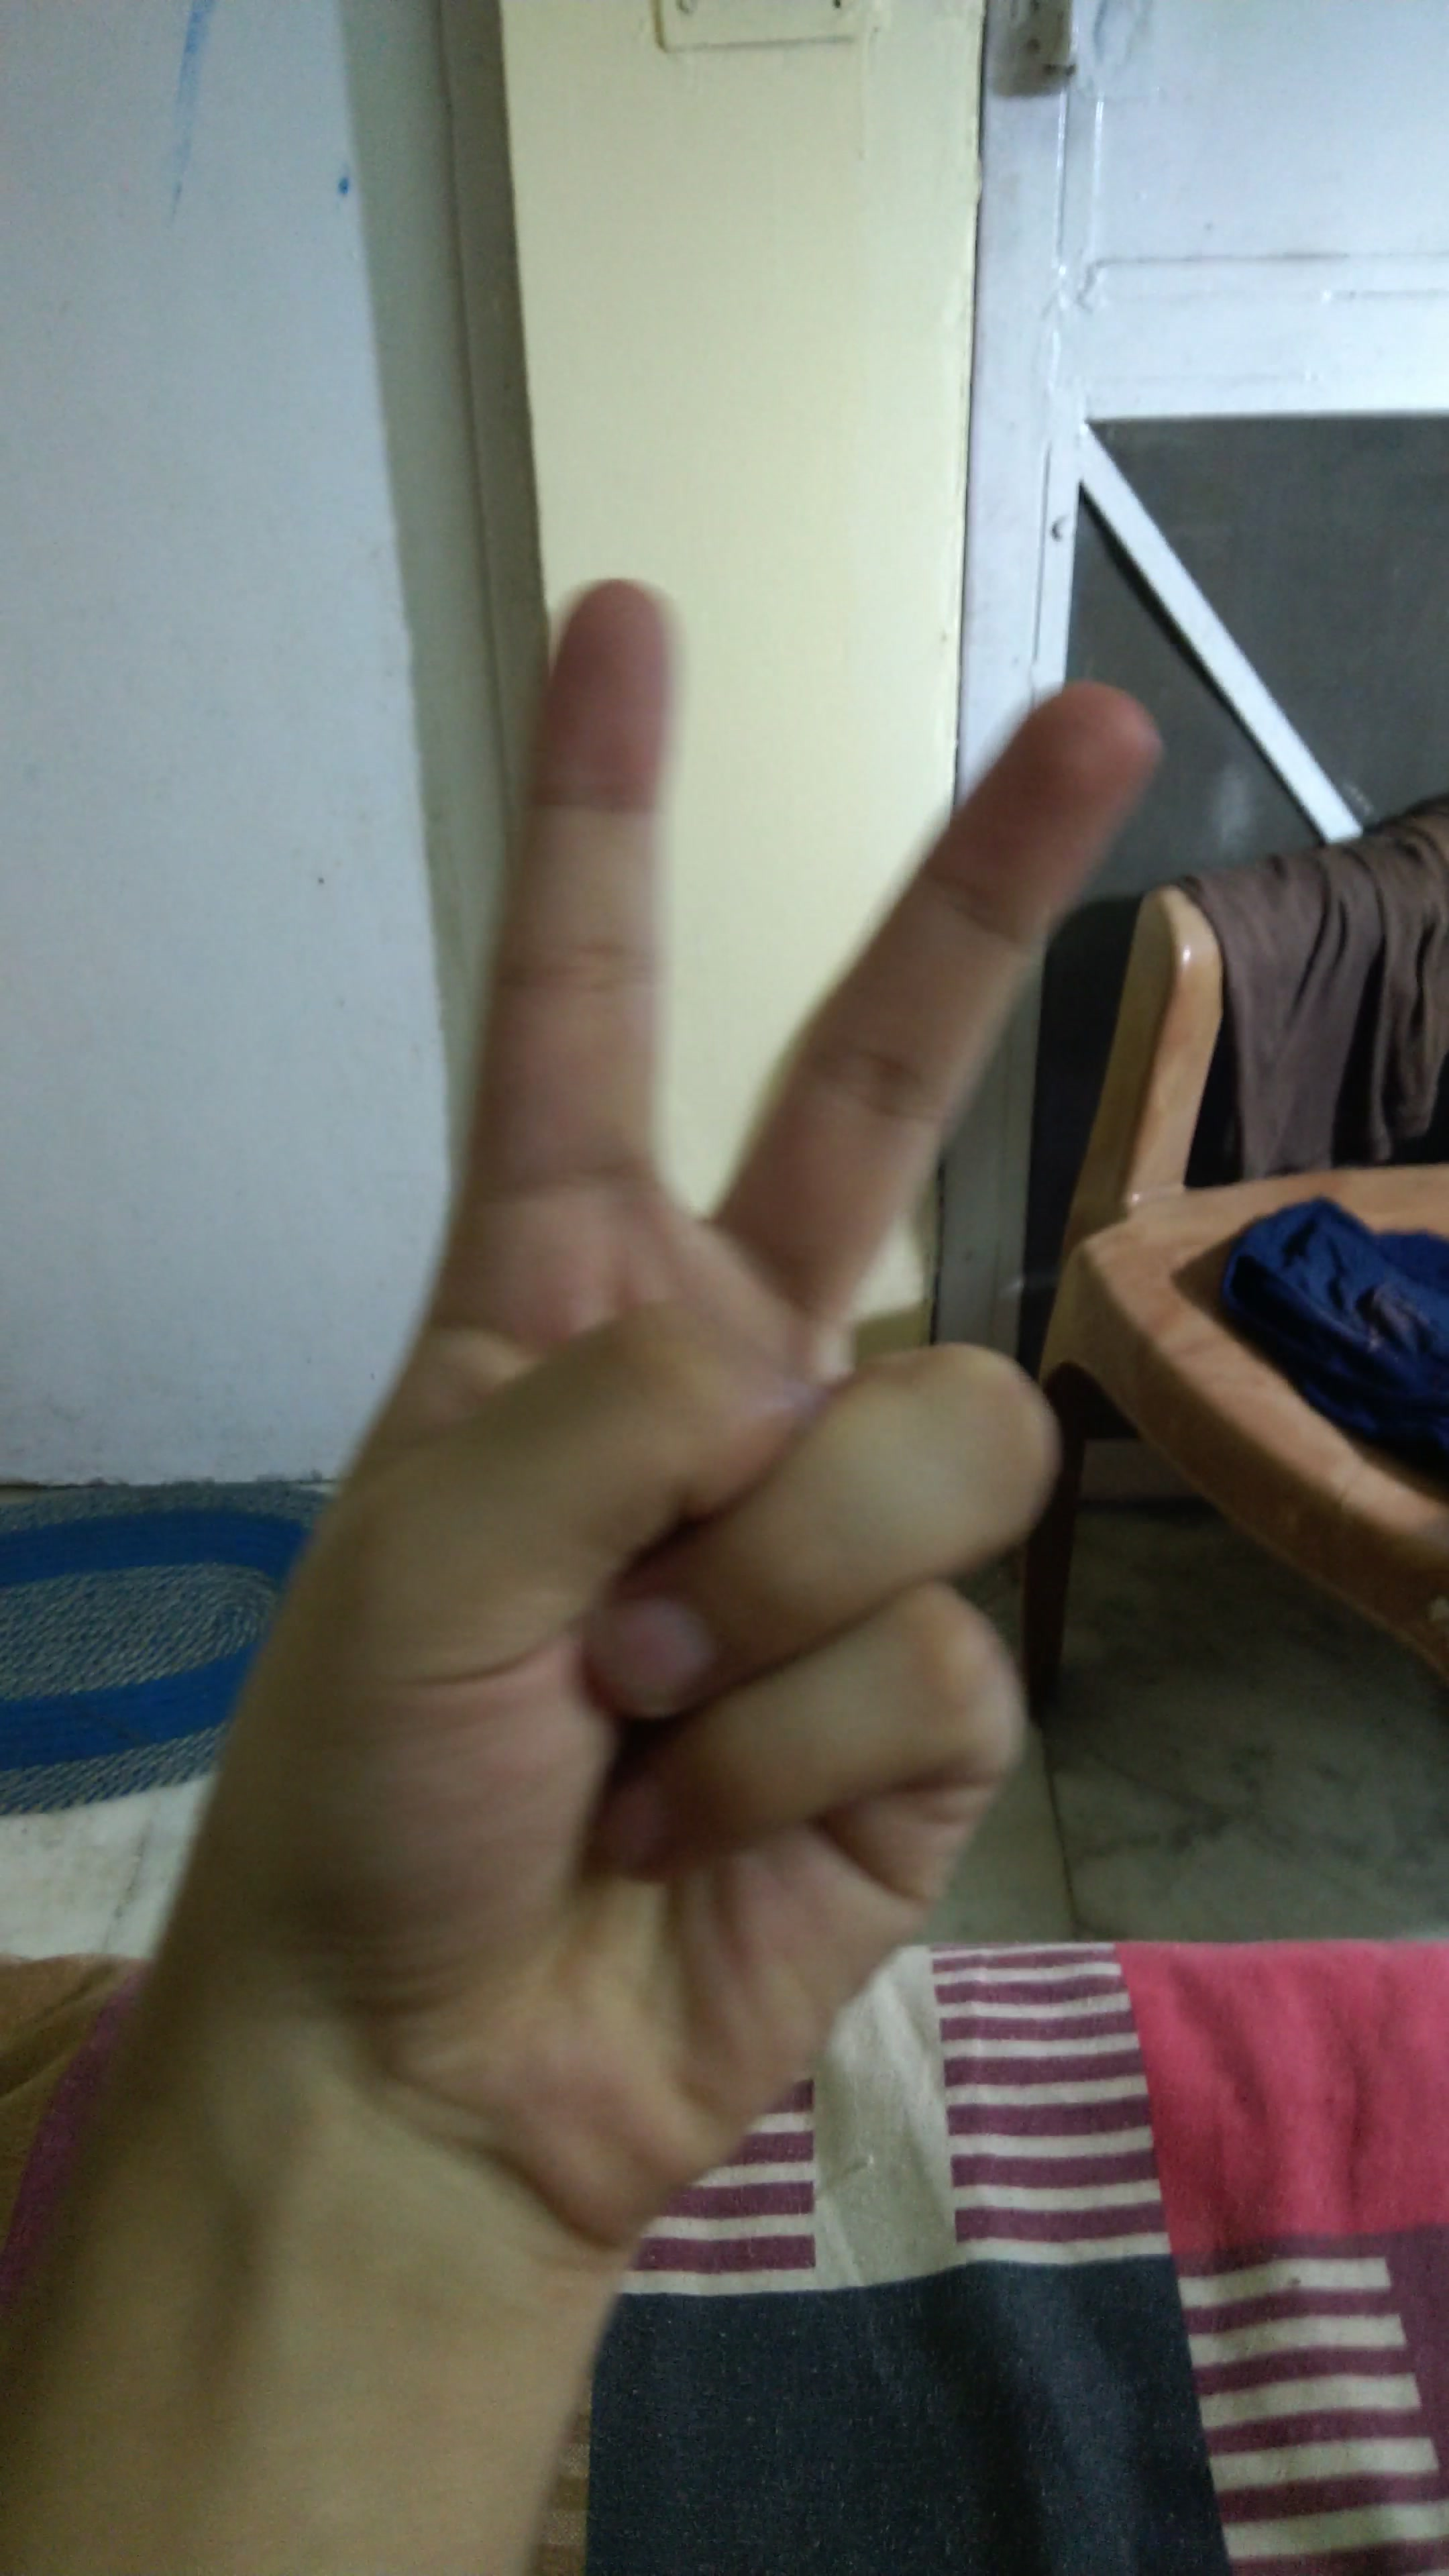hand: (99, 556, 1265, 2342)
